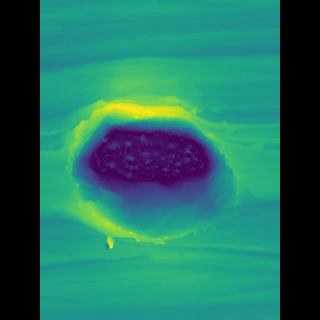Loch: (79, 84, 231, 245)
